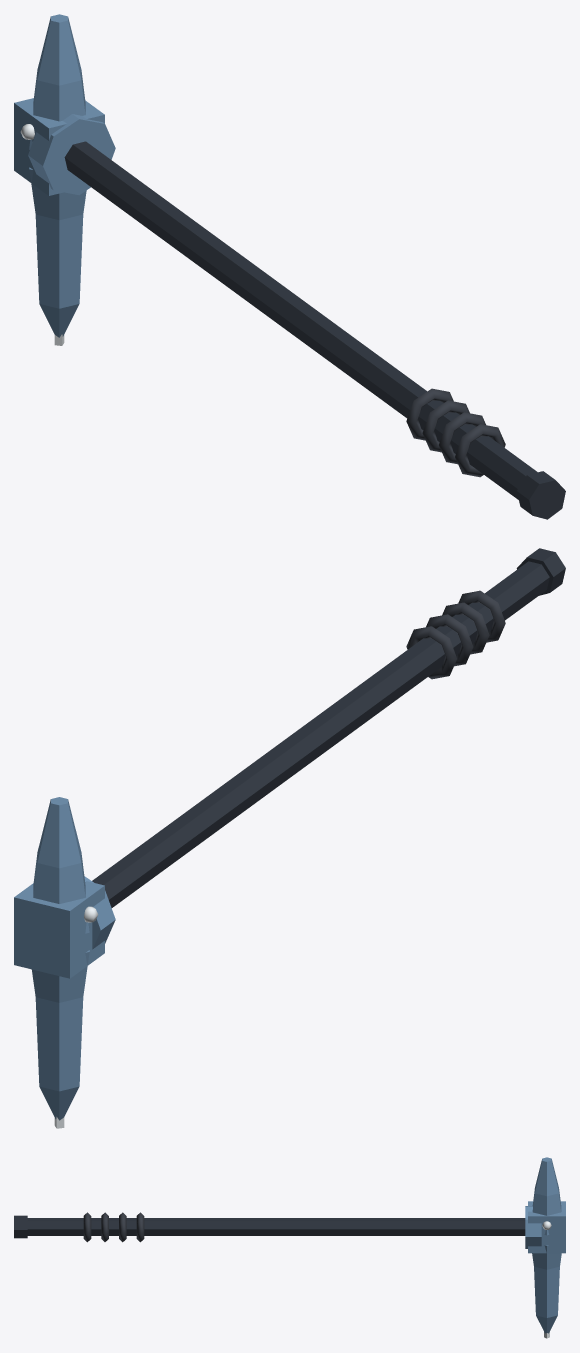
Rendered from Tool_Pickaxe_Titanium.fbx.
3 views of the same model, one above another, from view 1: azimuth 30°, elevation 25°; view 2: azimuth 150°, elevation 25°; view 3: azimuth 270°, elevation 25° (orthographic). The views are drawn at different scales.
Visible parts, largest first — view 1: Tool_Pickaxe_Titanium; view 2: Tool_Pickaxe_Titanium; view 3: Tool_Pickaxe_Titanium.
Part boxes in pixels (x1,y1,x2,y2): Tool_Pickaxe_Titanium: (14,14,565,519); Tool_Pickaxe_Titanium: (14,548,565,1128); Tool_Pickaxe_Titanium: (14,1157,565,1338).
Size of the model in its own units: 0.0341 by 0.1442 by 0.406.
